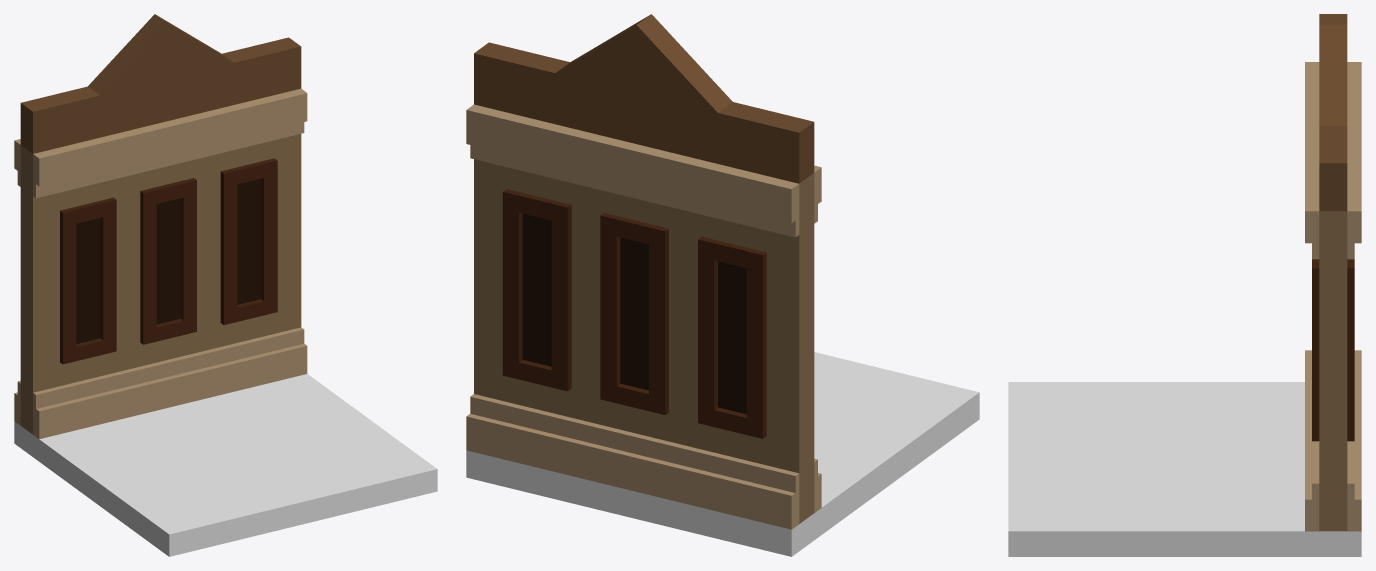
File: tile1wallB.fbx
The picture shows the model from 3 angles, left to right: view 1: azimuth 30°, elevation 25°; view 2: azimuth 150°, elevation 25°; view 3: azimuth 270°, elevation 25°; orthographic projection. The views are drawn at different scales.
Parts seen in each view (by area): view 1: Cube.001, Cube; view 2: Cube.001, Cube; view 3: Cube, Cube.001.
Boxes of the visible parts, box(x1,y1,x2,y2) form: Cube.001: box(14, 14, 307, 439); Cube: box(14, 374, 437, 556); Cube.001: box(466, 14, 821, 529); Cube: box(466, 352, 979, 556); Cube: box(1008, 382, 1361, 556); Cube.001: box(1305, 14, 1361, 531).
Size of the model in its own units: 500 by 715 by 500.
